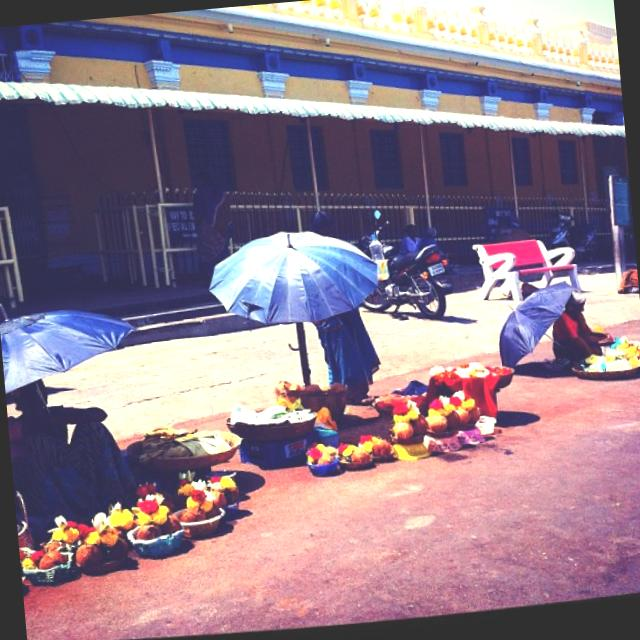Vehicle: (348, 204, 454, 322)
